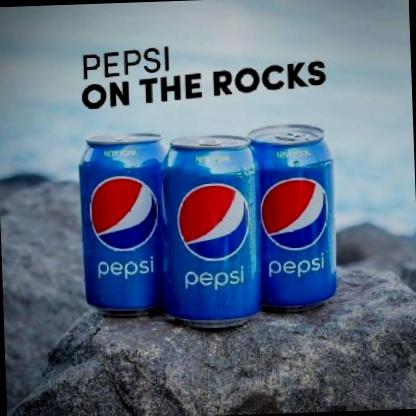alumunium_can: (159, 131, 265, 331), (248, 122, 342, 314), (78, 130, 172, 318)
